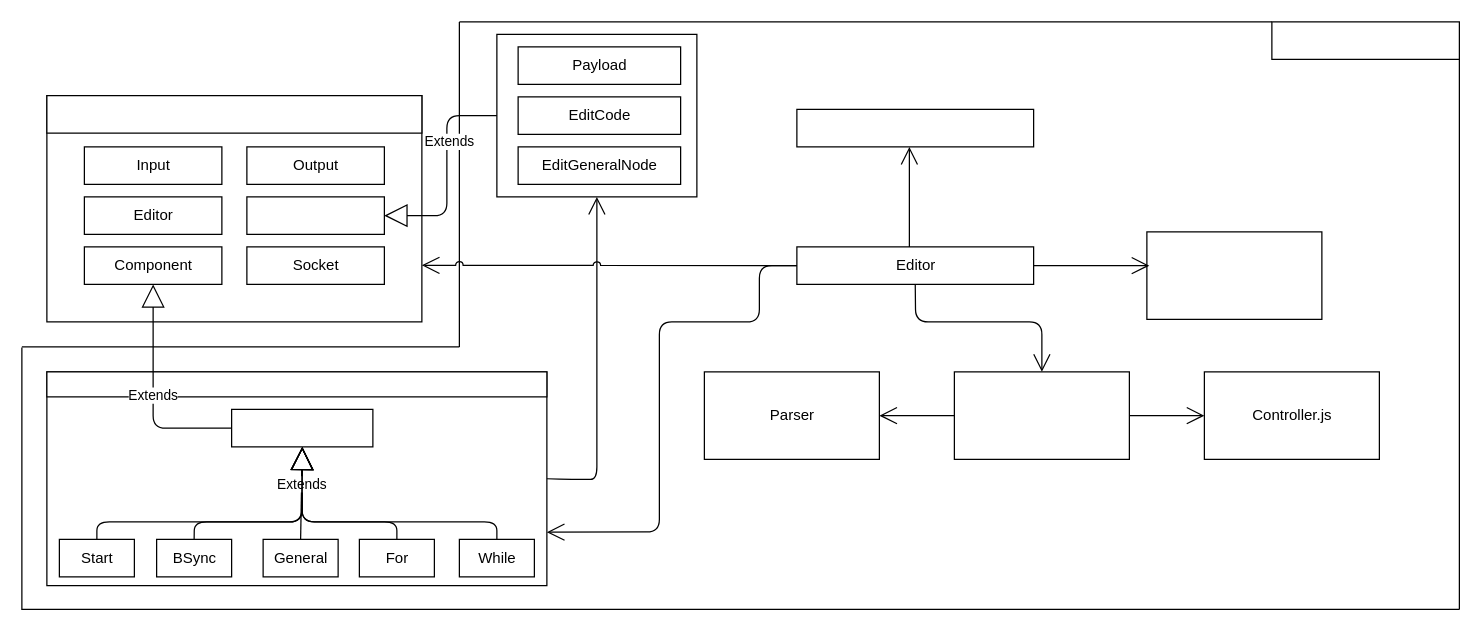
The diagram is 1483 pixels wide and 634 high, and some of its shapes have lost their labels. The centre of each missing label's shape, as x and y in pixels:
AbstractNode: (x=301, y=427)
BPjs Client: (x=1365, y=40)
ButtonHandlers: (x=1041, y=415)
Console: (x=915, y=127)
Control: (x=315, y=215)
EventHandlers: (x=1234, y=275)
Nodes: (x=296, y=384)
«External» Rete: (x=234, y=113)
